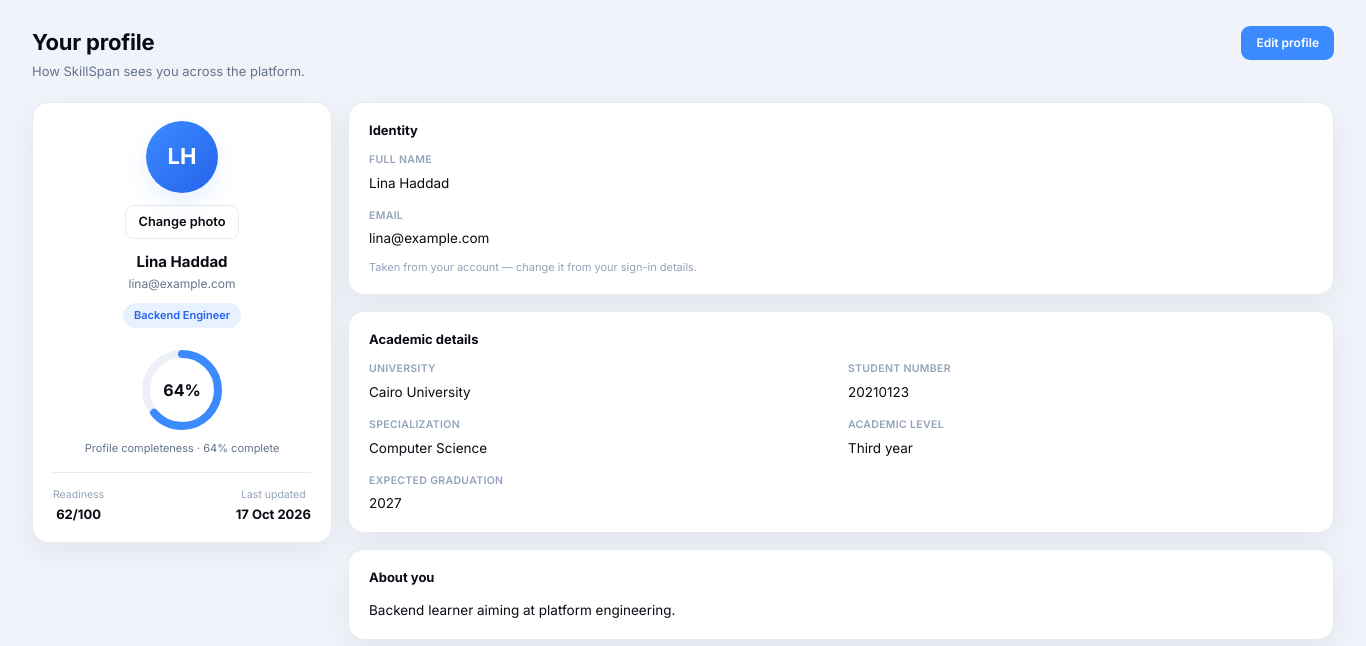
Test: profile page › keeps the edit open and reports a failed save
Expected: the text "Cairo University" is shown, [369,384,471,400]
Click the button "Edit profile".
click(1288, 43)  # box [1241,26,1334,60]
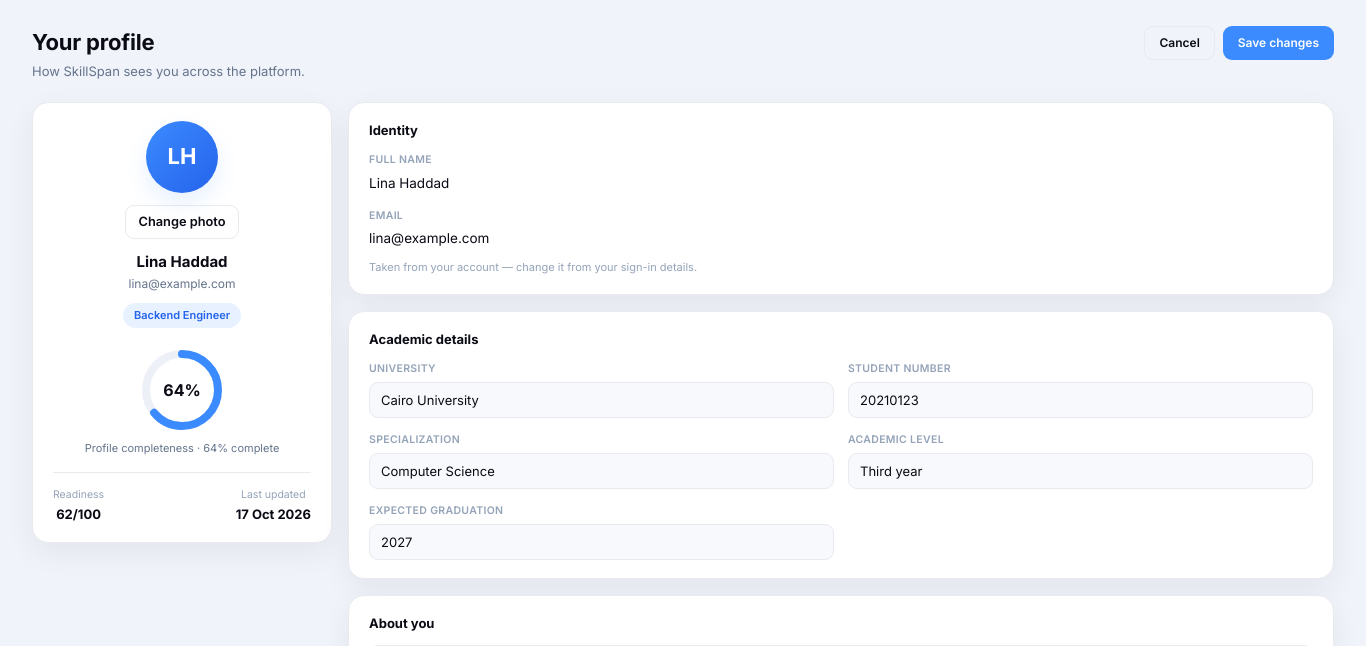
Click the button "Save changes".
click(1278, 43)  # box [1223,26,1334,60]
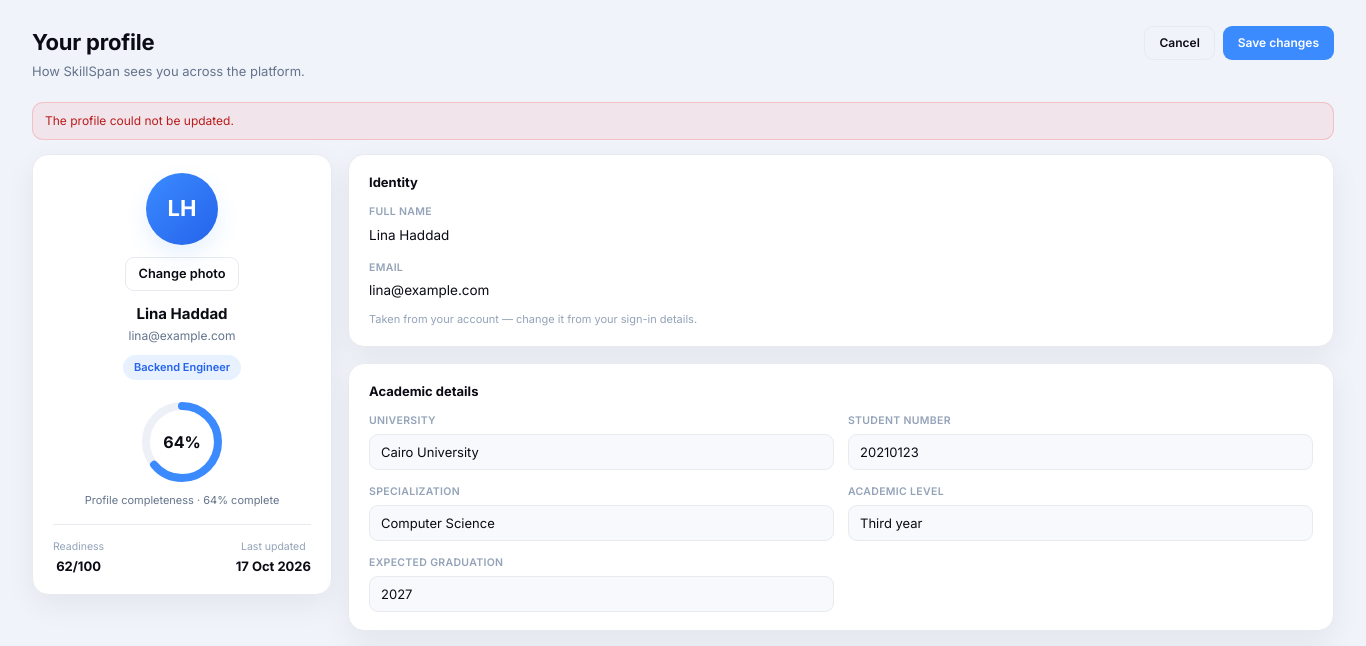
Expected: the button "Save changes" is shown, [1223,26,1334,60]
Expected: the text "The profile could not be updated." is shown, [32,102,1334,140]
